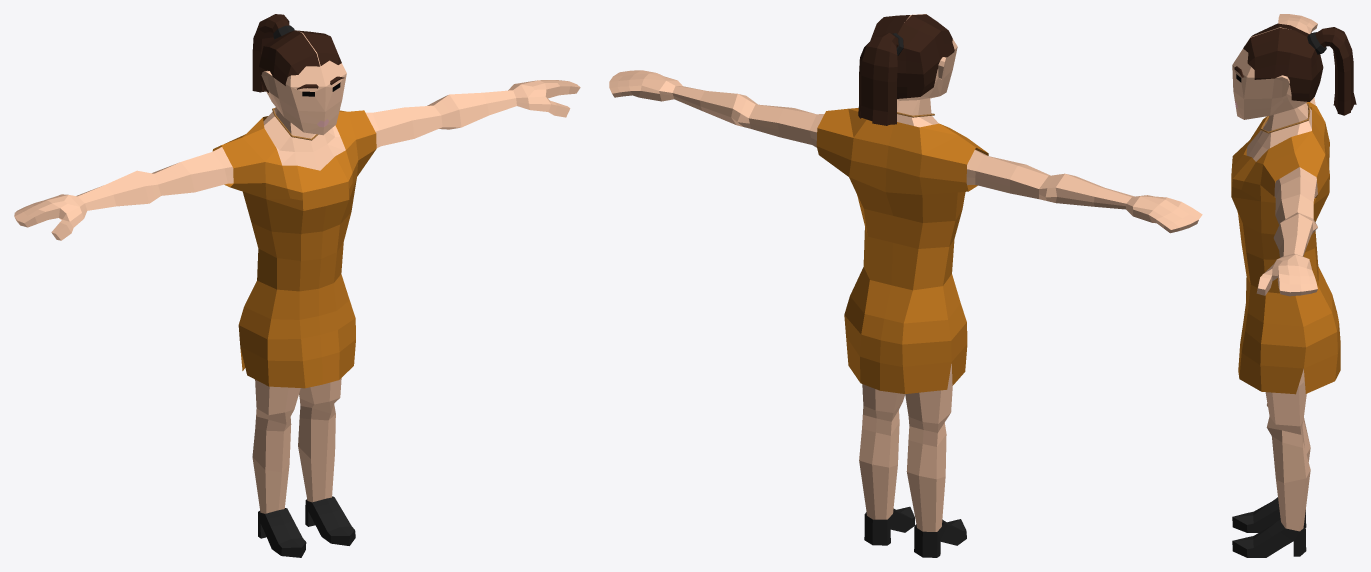
The model's file is NPC_W_Naranja_Escenario2_Coleta.fbx.
3 renders of one model, left to right at view 1: azimuth 30°, elevation 25°; view 2: azimuth 150°, elevation 25°; view 3: azimuth 270°, elevation 25°, orthographic. The views are drawn at different scales.
Parts seen in each view (by area): view 1: Vestido; view 2: Vestido; view 3: Vestido.
Part boxes in pixels (box(x1,y1,x2,y2)): Vestido: box(14, 14, 580, 557); Vestido: box(609, 14, 1202, 557); Vestido: box(1231, 14, 1356, 557).
Size of the model in its own units: 215 by 185 by 40.91.
